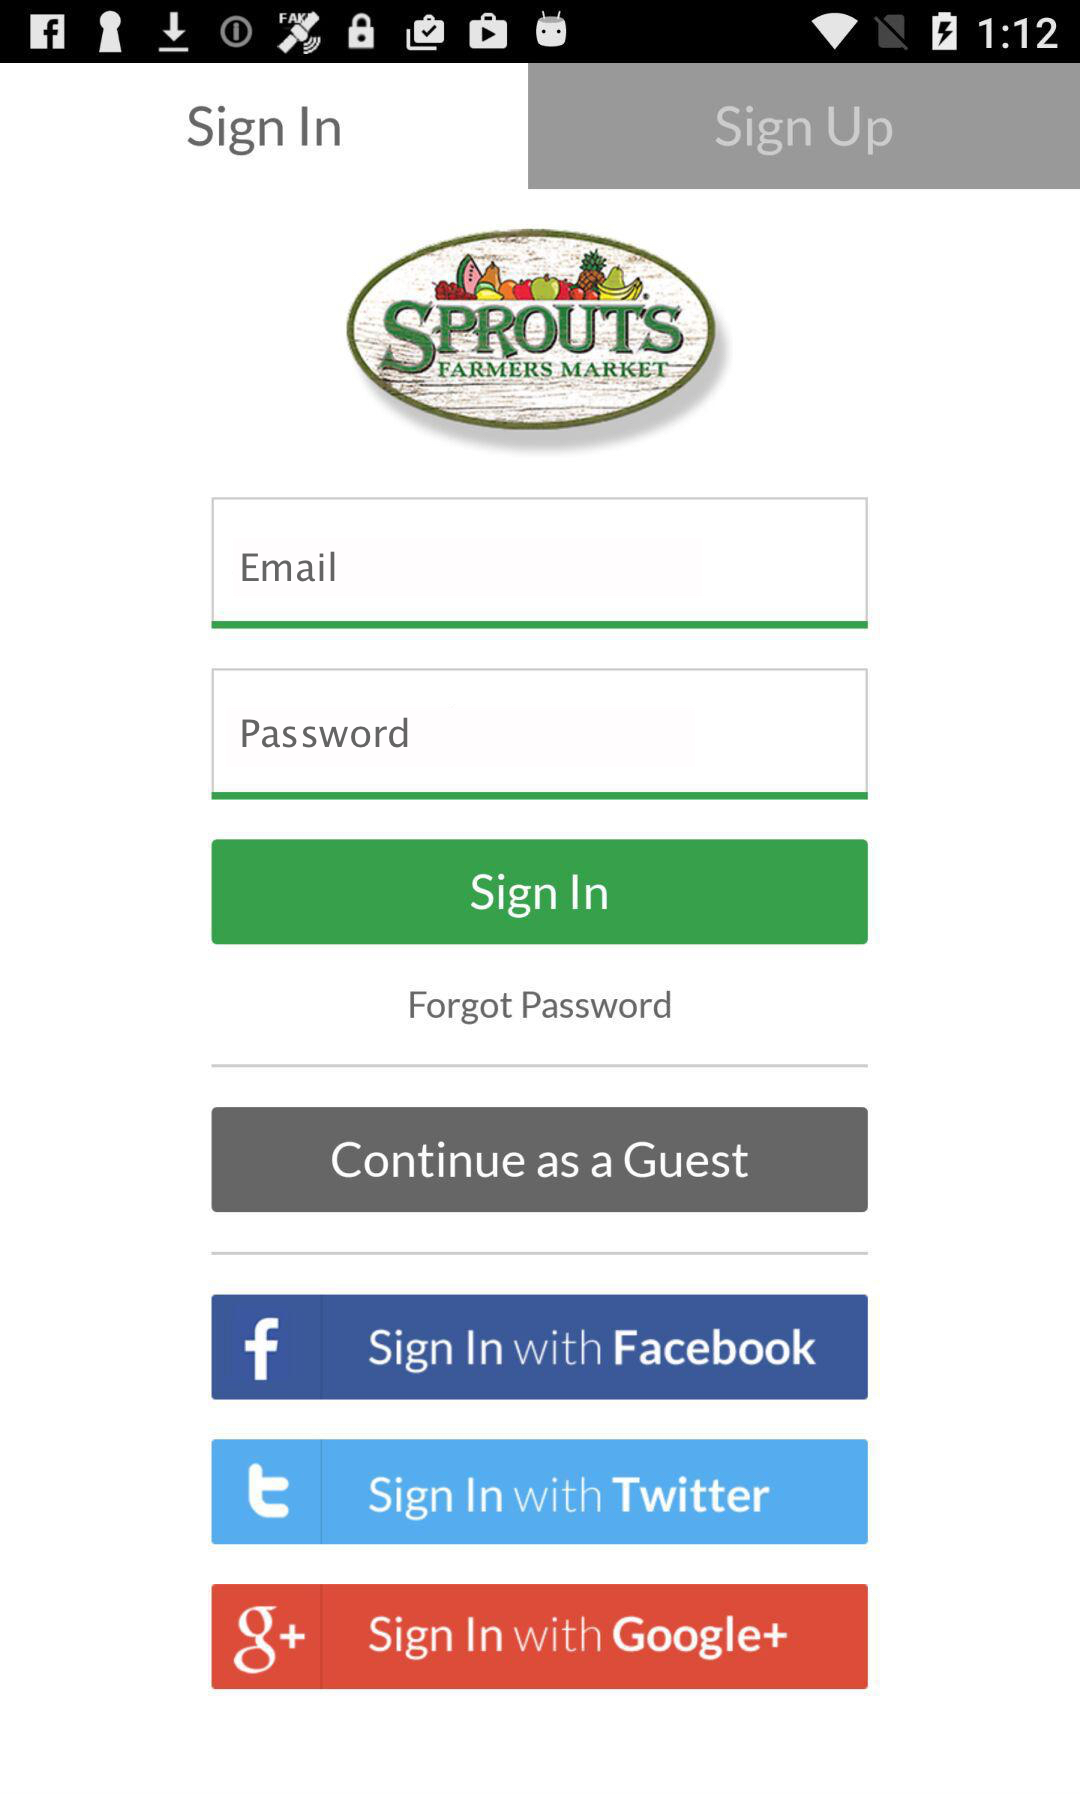EditText: (211, 668, 869, 801), (211, 497, 869, 630)
Image: (346, 228, 717, 432)
Text: (410, 991, 671, 1026), (187, 105, 342, 158), (242, 718, 409, 750), (242, 551, 336, 583)
TextButton: (211, 1584, 869, 1690), (211, 1439, 869, 1545), (211, 1294, 869, 1401), (211, 1107, 869, 1214), (528, 64, 1080, 190), (211, 839, 869, 944)
UpperTaskBar: (1, 1, 1080, 64)
